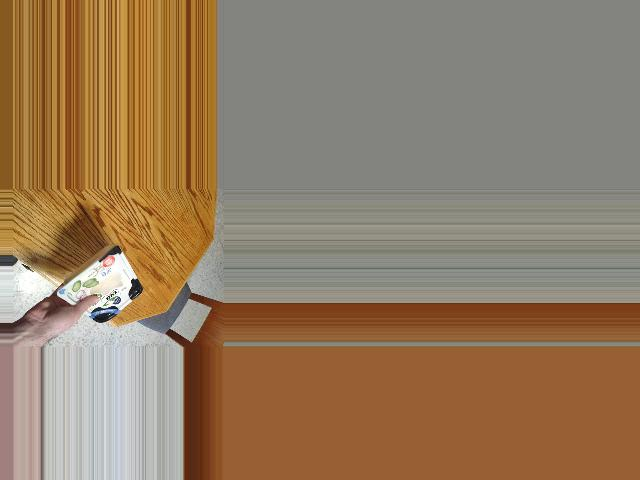cheese: (67, 250, 143, 314)
